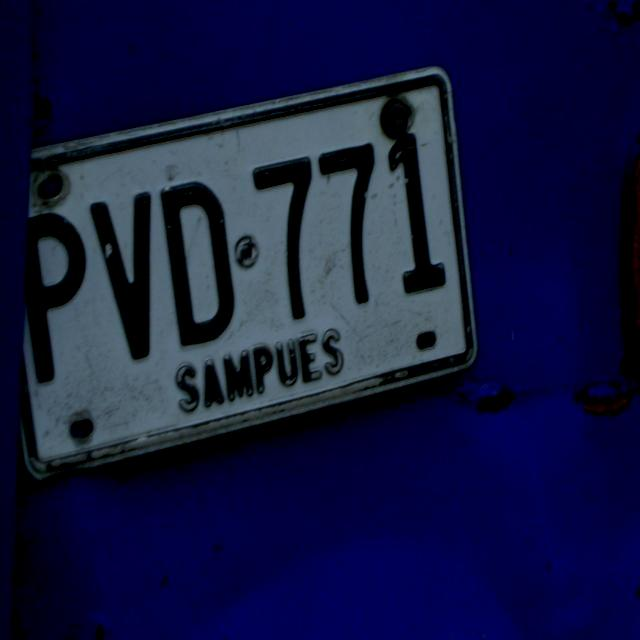placa: (8, 62, 484, 490)
